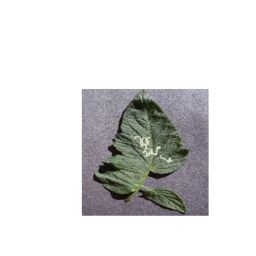liriomyza: (135, 134, 174, 163)
